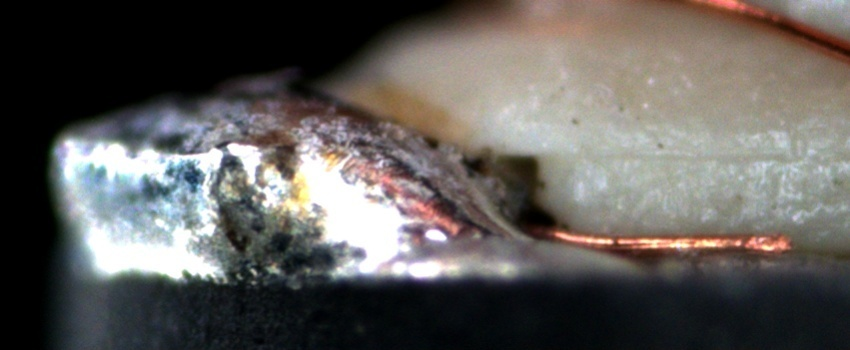DL: (583, 122, 847, 182)
